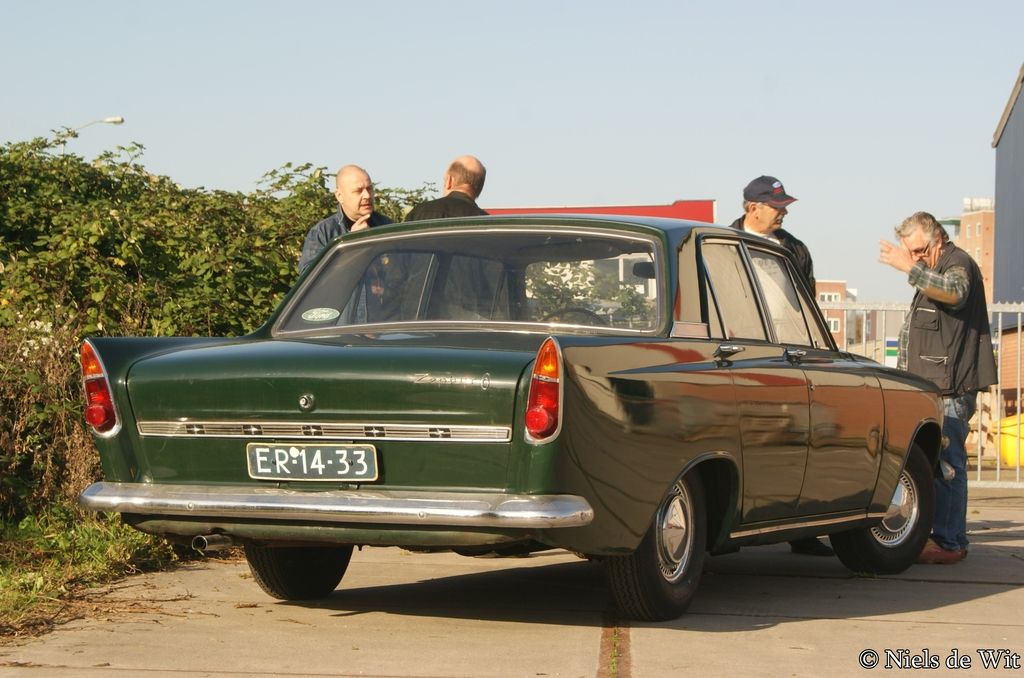Car: (83, 217, 939, 625)
